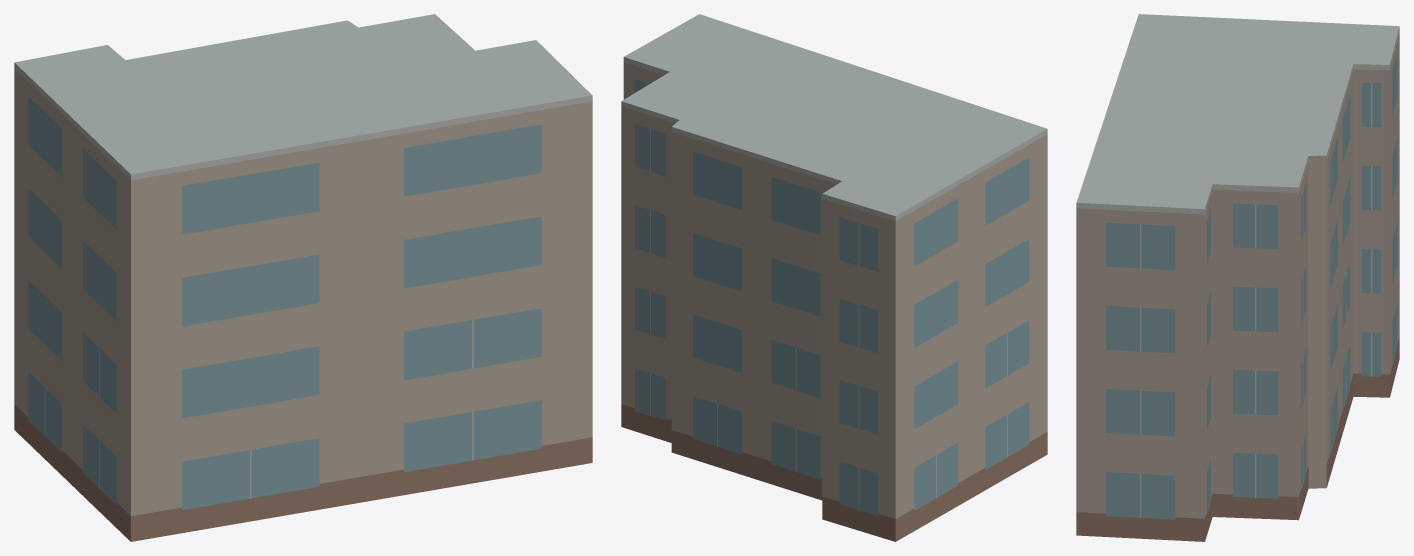
Rendered from survey-upis-32838243.glb.
3 renders of one model, left to right at view 1: azimuth 30°, elevation 25°; view 2: azimuth 150°, elevation 25°; view 3: azimuth 270°, elevation 25°, orthographic. The views are drawn at different scales.
Visible parts, largest first — view 1: survey-upis-32838243.tmp; view 2: survey-upis-32838243.tmp; view 3: survey-upis-32838243.tmp.
Part boxes in pixels (x1,y1,x2,y2): survey-upis-32838243.tmp: (14,14,592,541); survey-upis-32838243.tmp: (621,14,1047,541); survey-upis-32838243.tmp: (1076,14,1399,541).
Bounding box in the file's own units: 19.14 × 15.2 × 13.39.
